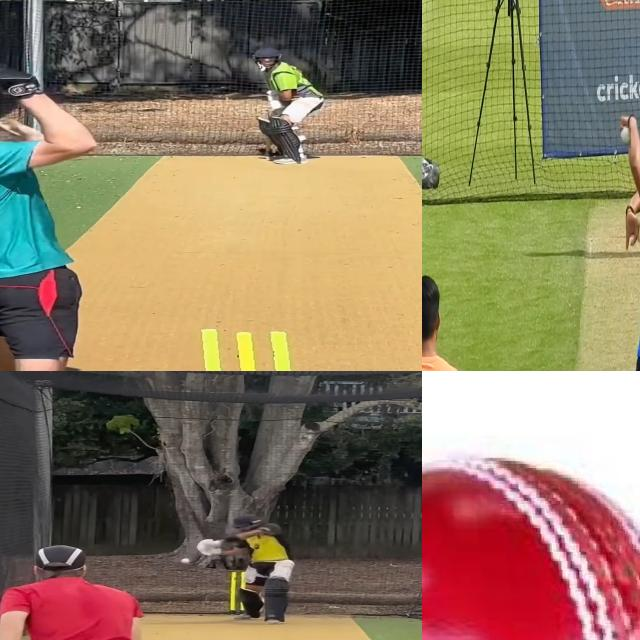Cricket ball: (422, 446, 640, 640), (618, 123, 631, 148), (179, 558, 192, 565)
Stumps: (181, 327, 309, 371)
